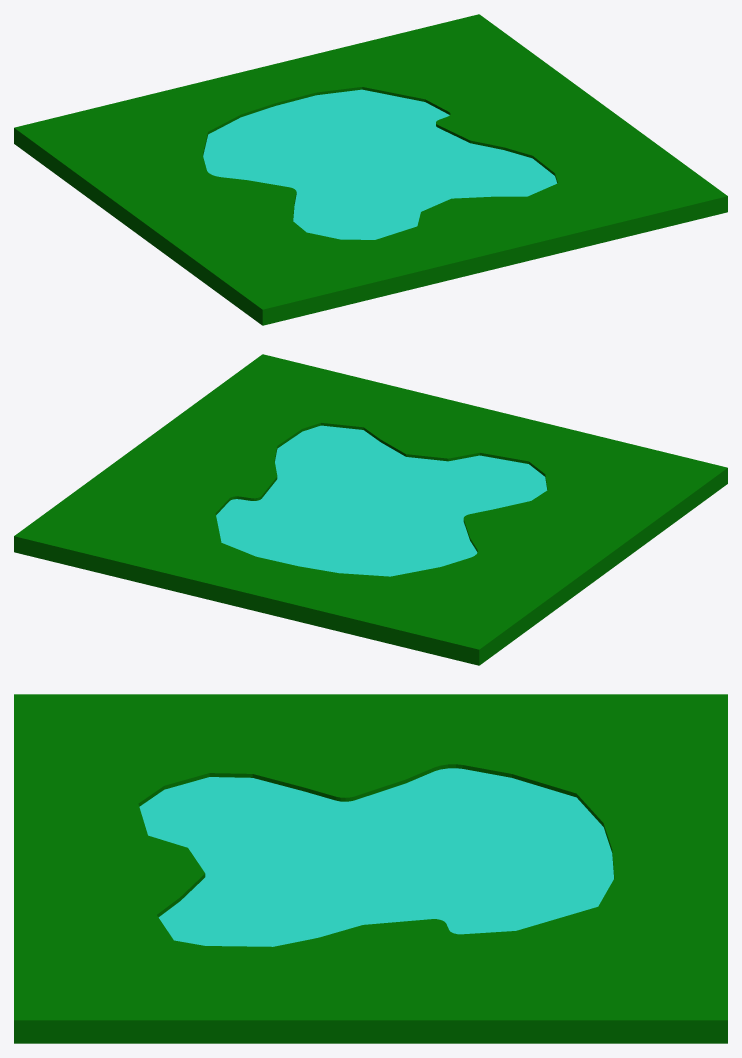
The model's file is Level1Ground.glb.
3 renders of one model, top to bottom at view 1: azimuth 30°, elevation 25°; view 2: azimuth 150°, elevation 25°; view 3: azimuth 270°, elevation 25°, orthographic. The views are drawn at different scales.
Parts seen in each view (by area): view 1: Cube; view 2: Cube; view 3: Cube.
Part boxes in pixels (x1,y1,x2,y2): Cube: (14,14,727,325); Cube: (14,354,727,665); Cube: (14,694,727,1043).
Size of the model in its own units: 24.2 by 0.8 by 22.4.
